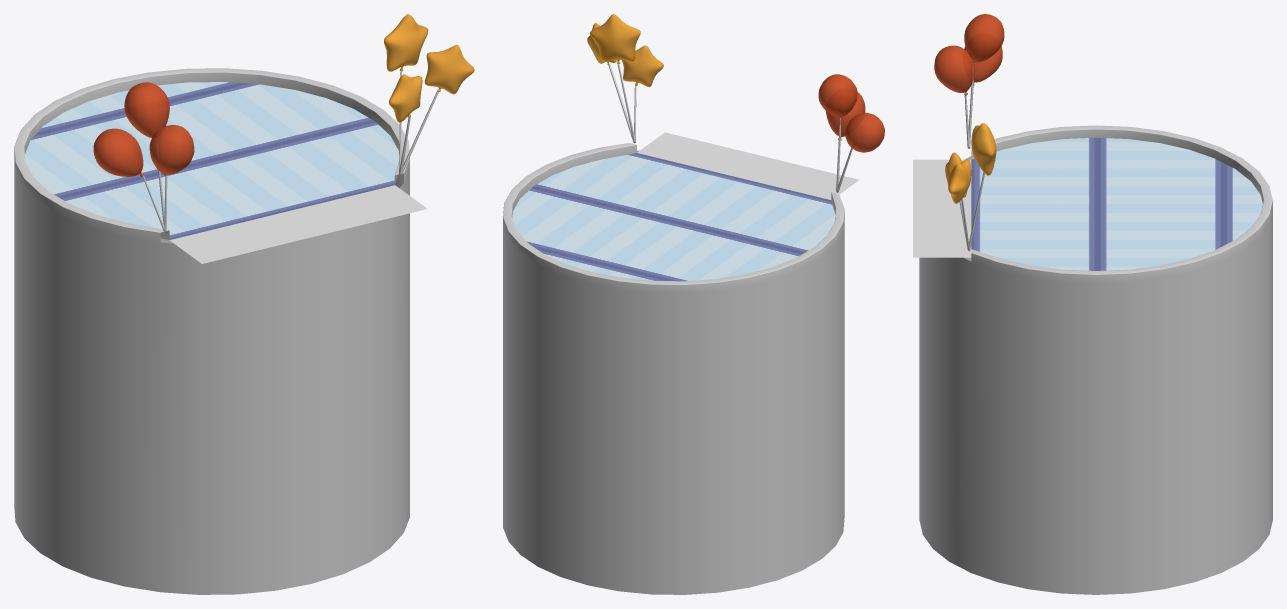
File: END_Platform.fbx
The picture shows the model from 3 angles, left to right: view 1: azimuth 30°, elevation 25°; view 2: azimuth 150°, elevation 25°; view 3: azimuth 270°, elevation 25°; orthographic projection. The views are drawn at different scales.
Parts seen in each view (by area): view 1: End_Platform, Checker, Balloon.001, Balloon, Balloon.002, Star_Balloon.001, Star_Balloon, Star_Balloon.002, Ropes.001; view 2: End_Platform, Checker, Star_Balloon.001, Balloon.001, Balloon, Star_Balloon.002, Balloon.002, Ropes.001; view 3: End_Platform, Checker, Balloon.001, Balloon.002, Star_Balloon.001, Star_Balloon, Balloon.
Boxes of the visible parts, bbox=[...] form: End_Platform: bbox=[14, 68, 409, 594]; Checker: bbox=[169, 185, 427, 263]; Balloon.001: bbox=[124, 82, 169, 141]; Balloon: bbox=[93, 128, 143, 176]; Balloon.002: bbox=[149, 125, 194, 175]; Star_Balloon.001: bbox=[384, 14, 428, 71]; Star_Balloon: bbox=[424, 45, 474, 94]; Star_Balloon.002: bbox=[389, 74, 422, 122]; Ropes.001: bbox=[398, 71, 438, 175]; End_Platform: bbox=[503, 143, 844, 594]; Checker: bbox=[637, 132, 859, 199]; Star_Balloon.001: bbox=[590, 14, 640, 63]; Balloon.001: bbox=[818, 74, 857, 117]; Balloon: bbox=[845, 112, 884, 152]; Star_Balloon.002: bbox=[621, 45, 663, 87]; Balloon.002: bbox=[826, 92, 865, 140]; Ropes.001: bbox=[608, 63, 636, 143]; End_Platform: bbox=[919, 125, 1272, 594]; Checker: bbox=[913, 159, 971, 257]; Balloon.001: bbox=[964, 14, 1004, 65]; Balloon.002: bbox=[934, 45, 974, 95]; Star_Balloon.001: bbox=[971, 123, 996, 175]; Star_Balloon: bbox=[948, 159, 971, 203]; Balloon: bbox=[964, 46, 1002, 85].
Bounding box in the file's own units: 1275 × 1729 × 1239.
